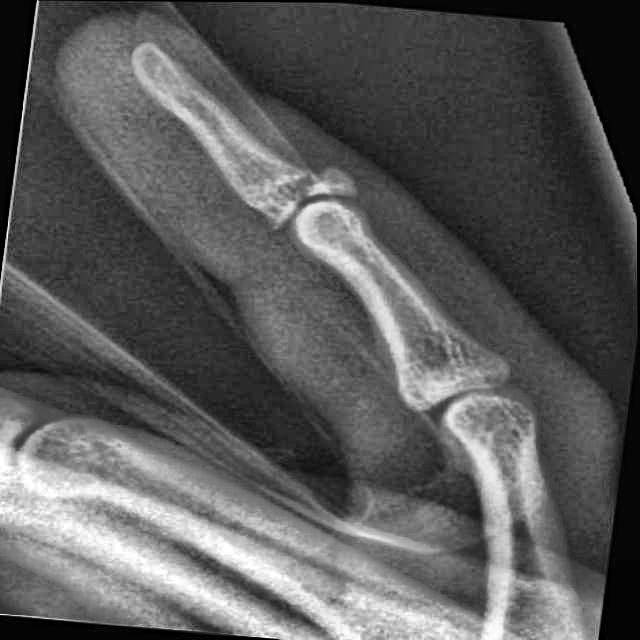Greenstick: (256, 166, 370, 235)
